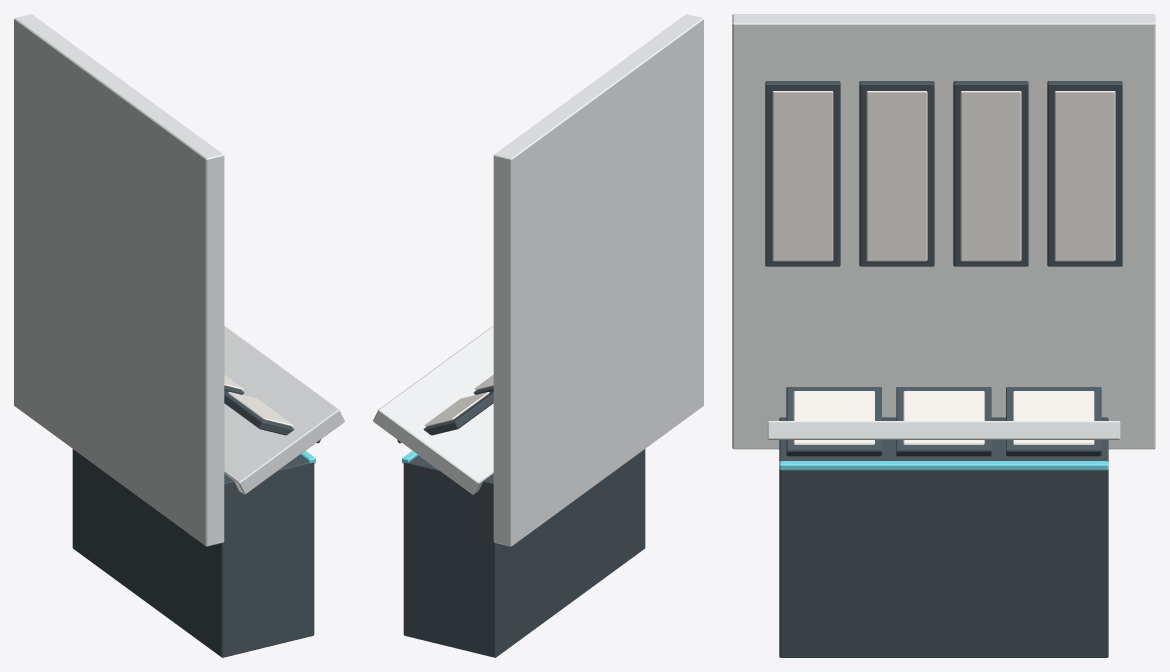
The model's file is SM_Console_Medical.fbx.
3 views of the same model, side by side, from view 1: azimuth 30°, elevation 25°; view 2: azimuth 150°, elevation 25°; view 3: azimuth 270°, elevation 25° (orthographic). The views are drawn at different scales.
Parts seen in each view (by area): view 1: SM_Console_Medical; view 2: SM_Console_Medical; view 3: SM_Console_Medical.
Part boxes in pixels (x1,y1,x2,y2): SM_Console_Medical: (14, 14, 344, 657); SM_Console_Medical: (373, 14, 703, 657); SM_Console_Medical: (732, 14, 1155, 657).
Bounding box in the file's own units: 83.67 × 270 × 180.
